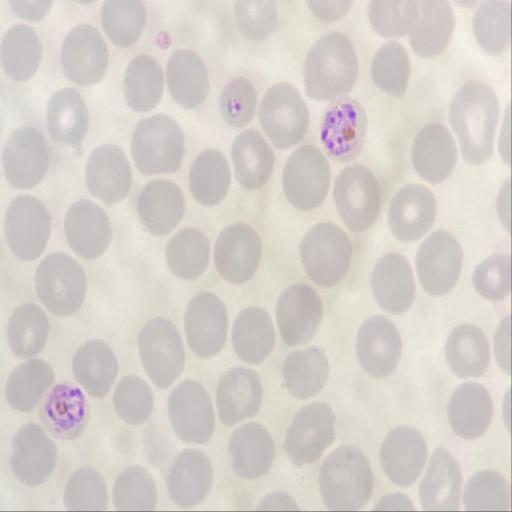Infected: (39, 381, 88, 440), (320, 97, 365, 159), (220, 79, 258, 127)
Uninfected: (447, 82, 499, 163), (136, 317, 189, 387), (316, 445, 374, 508), (296, 222, 352, 286), (34, 252, 89, 317), (303, 35, 359, 97), (414, 231, 465, 297), (164, 380, 217, 443), (284, 402, 338, 463), (131, 115, 185, 175), (4, 194, 53, 260), (278, 148, 331, 209), (258, 84, 309, 146), (274, 284, 324, 347), (331, 167, 381, 230), (62, 201, 115, 260), (182, 294, 230, 359), (59, 25, 111, 85), (1, 127, 51, 189), (83, 145, 135, 203), (354, 316, 403, 377), (213, 223, 264, 281), (377, 426, 427, 485), (403, 1, 455, 57), (136, 179, 188, 234), (227, 420, 277, 477), (387, 183, 437, 240), (163, 49, 211, 108), (368, 253, 415, 313), (165, 451, 215, 507), (410, 123, 457, 182), (8, 427, 55, 486), (164, 225, 213, 281), (229, 306, 276, 364), (215, 368, 265, 422), (71, 340, 118, 397), (1, 24, 45, 84), (446, 382, 493, 438), (45, 89, 91, 146), (187, 150, 233, 206), (230, 131, 275, 187), (281, 346, 330, 397), (419, 450, 462, 508), (122, 55, 166, 111), (5, 360, 53, 411), (444, 325, 490, 378), (7, 302, 51, 357), (369, 43, 412, 95), (471, 0, 509, 55), (111, 376, 154, 424), (101, 1, 146, 46), (112, 466, 158, 510), (61, 467, 108, 510), (461, 469, 508, 510), (369, 1, 419, 39), (472, 253, 511, 301), (233, 2, 278, 40)
